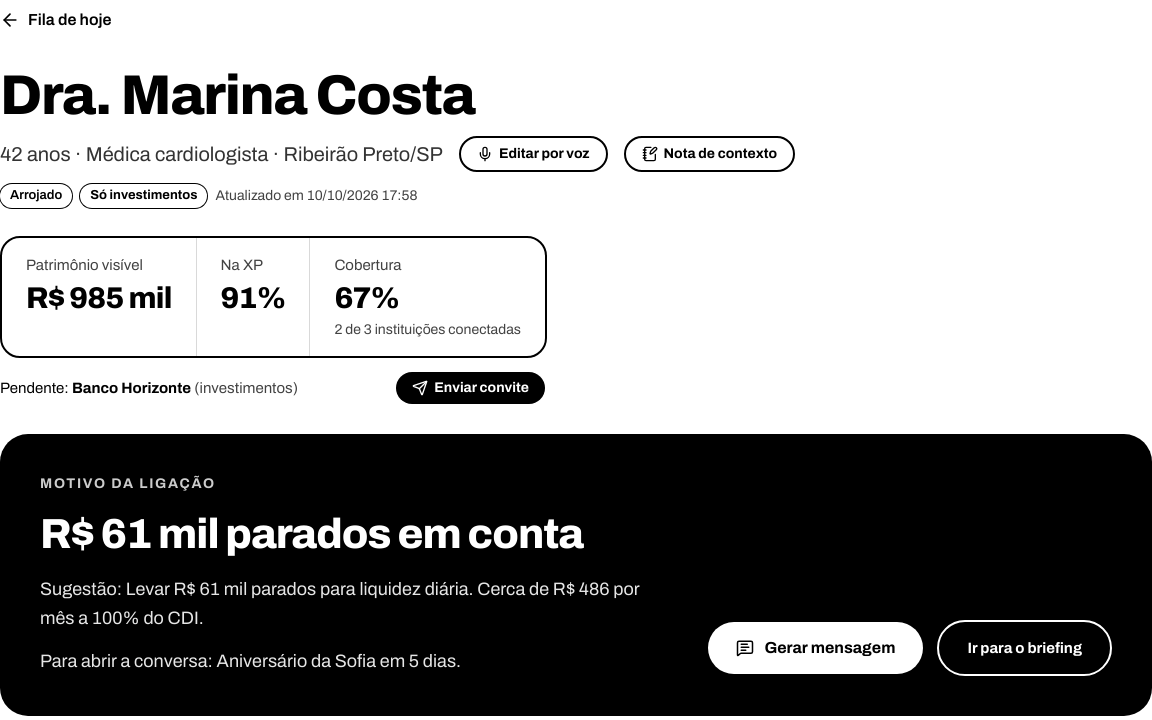
Test: 360 · Enviar convite › 409 (já conectado enquanto a tela estava aberta): só recarrega, sem abrir a mensagem
Expected: the heading "Dra. Marina Costa" is shown, top-left (0, 65), bottom-right (475, 126)
Click the button "Enviar convite".
click(471, 388)  # box top-left (394, 370), bottom-right (547, 406)
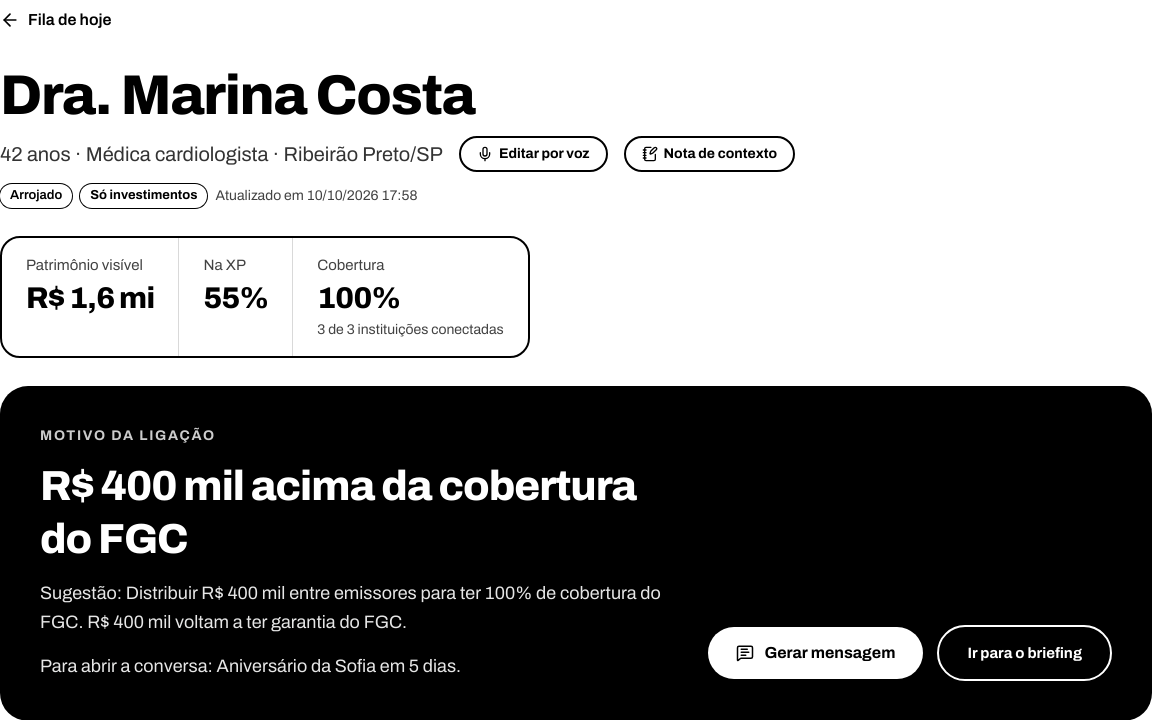
Result: the element with test id "cobertura" shows "3 de 3 instituições conectadas" at top-left (317, 322), bottom-right (504, 337)
